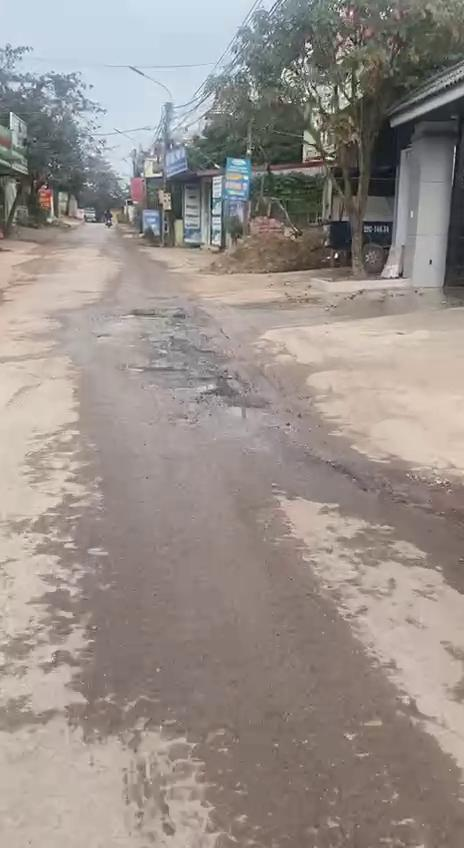pothole: (117, 356, 264, 417), (158, 336, 222, 367)
